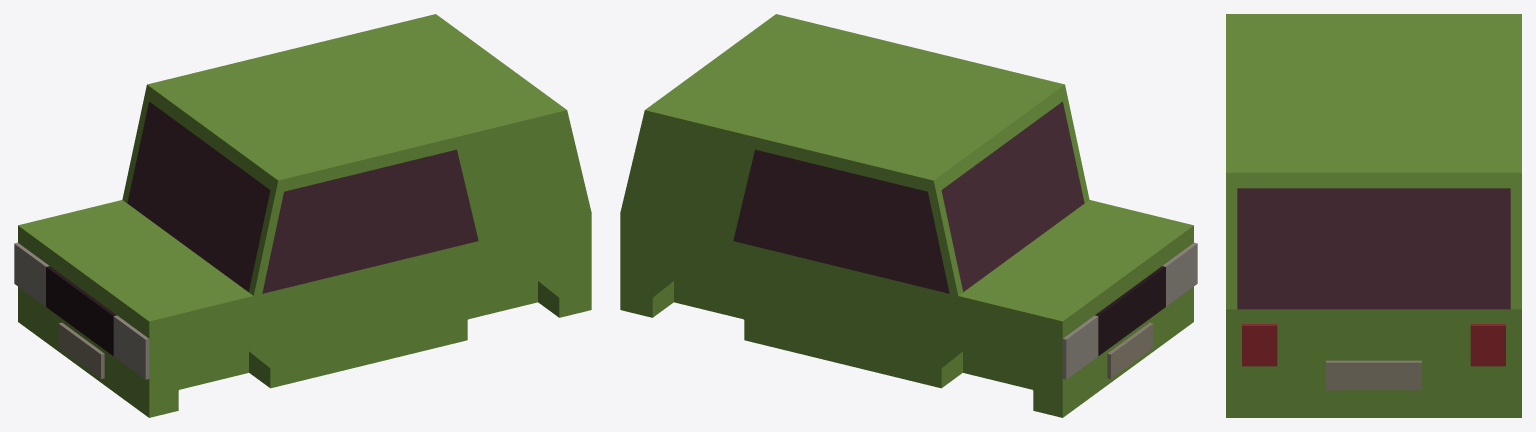
The model's file is Suv_Green.fbx.
The picture shows the model from 3 angles, left to right: view 1: azimuth 30°, elevation 25°; view 2: azimuth 150°, elevation 25°; view 3: azimuth 270°, elevation 25°; orthographic projection. The views are drawn at different scales.
Parts seen in each view (by area): view 1: Suv_Green, Suv_Lights; view 2: Suv_Green, Suv_Lights; view 3: Suv_Green, Suv_Lights.
Part boxes in pixels (box(x1,y1,x2,y2)): Suv_Green: box(18, 14, 591, 417); Suv_Lights: box(14, 242, 149, 379); Suv_Green: box(620, 14, 1193, 417); Suv_Lights: box(1062, 242, 1197, 379); Suv_Green: box(1226, 14, 1521, 417); Suv_Lights: box(1242, 324, 1505, 366).
Bounding box in the file's own units: 3.66 × 1.6 × 1.85.
